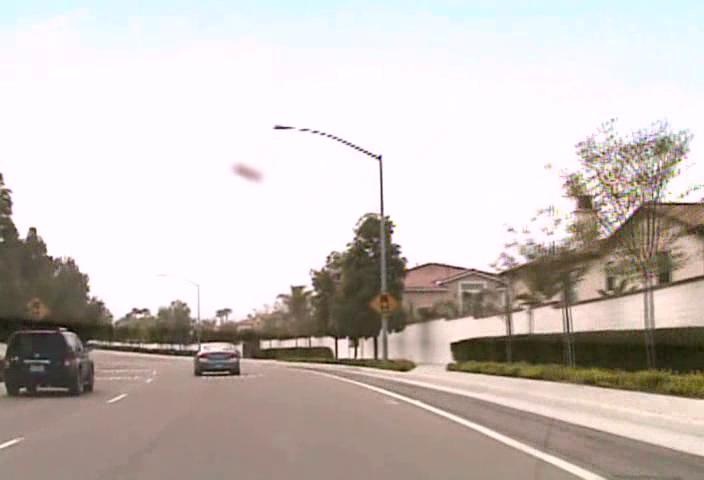signalAhead: (368, 288, 400, 319)
